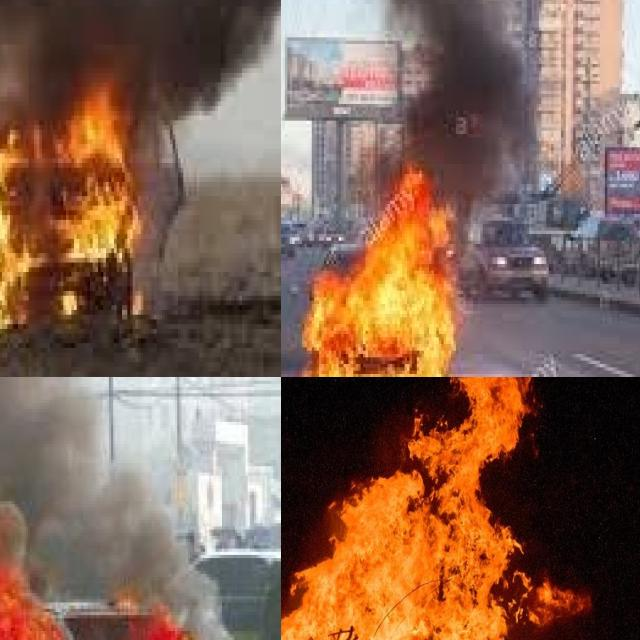fire: (281, 377, 590, 640), (0, 82, 154, 328), (297, 160, 465, 377), (0, 558, 281, 640)
smoke: (0, 377, 215, 609), (0, 0, 281, 134), (360, 0, 521, 197)
